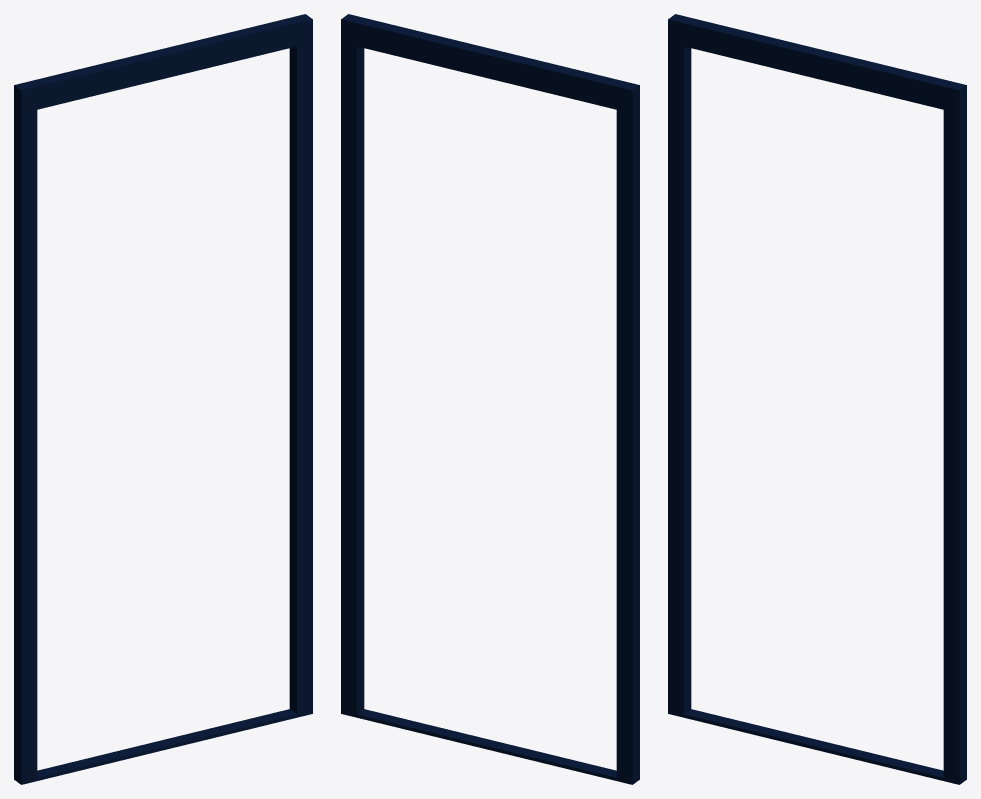
3 renders of one model, left to right at view 1: azimuth 30°, elevation 25°; view 2: azimuth 150°, elevation 25°; view 3: azimuth 330°, elevation 25°, orthographic.
Parts seen in each view (by area): view 1: node0; view 2: node0; view 3: node0.
Part boxes in pixels (box(x1,y1,x2,y2)): node0: box(14, 14, 312, 784); node0: box(341, 14, 639, 784); node0: box(668, 14, 966, 784).
Bounding box in the file's own units: 0.92 × 2.09 × 0.04.
